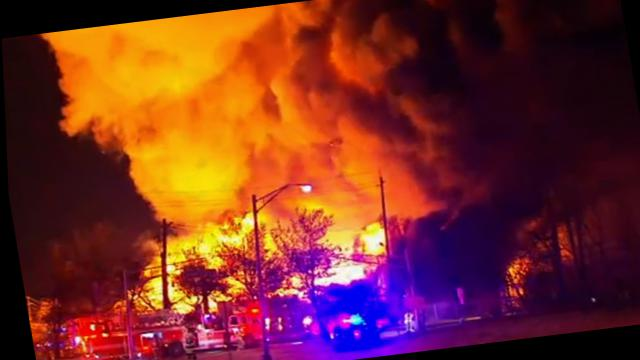fire: (315, 262, 370, 288), (358, 222, 387, 260)
smoke: (302, 0, 639, 228), (40, 1, 329, 211), (152, 190, 250, 227), (255, 182, 336, 220)
